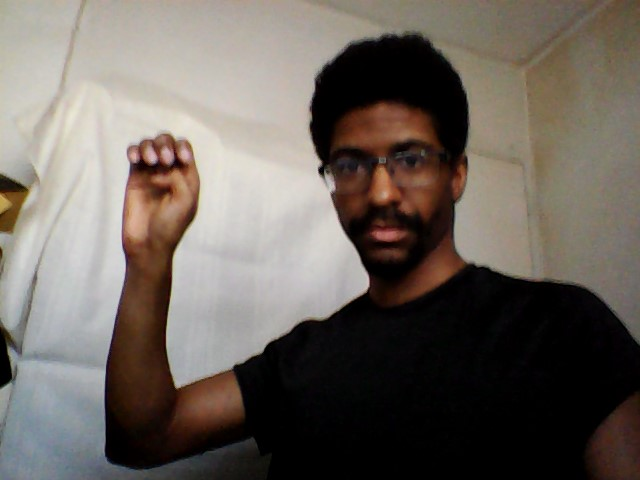e: (111, 128, 204, 260)
